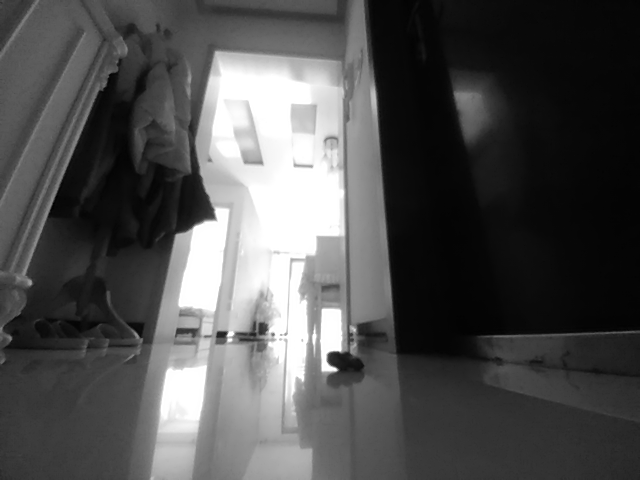pet feces: (325, 349, 364, 372)
shoe: (11, 314, 88, 350), (49, 320, 110, 350)
